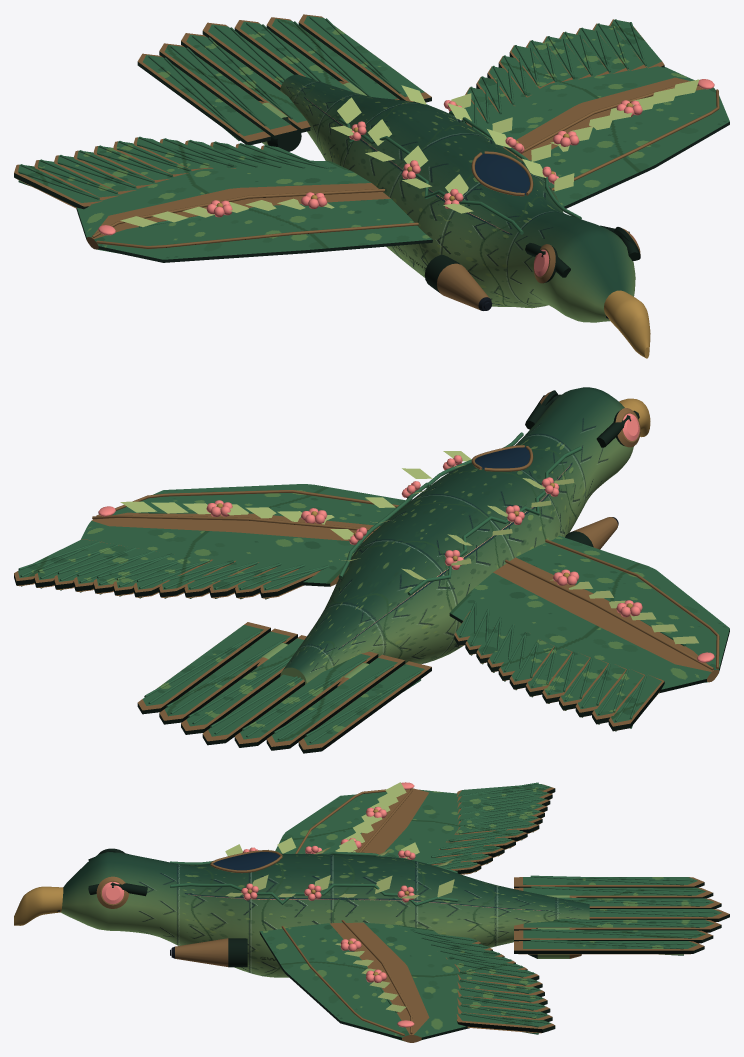
The picture shows the model from 3 angles, top to bottom: view 1: azimuth 30°, elevation 25°; view 2: azimuth 150°, elevation 25°; view 3: azimuth 270°, elevation 25°; orthographic projection. The views are drawn at different scales.
Visible parts, largest first — view 1: shrike_hull; view 2: shrike_hull; view 3: shrike_hull.
Boxes of the visible parts, x1,y1,x2,y2 form: shrike_hull: (14, 14, 729, 358); shrike_hull: (14, 387, 729, 753); shrike_hull: (14, 782, 729, 1042).
Size of the model in its own units: 13.49 by 2.96 by 16.5.
1 material, 1 textured.
